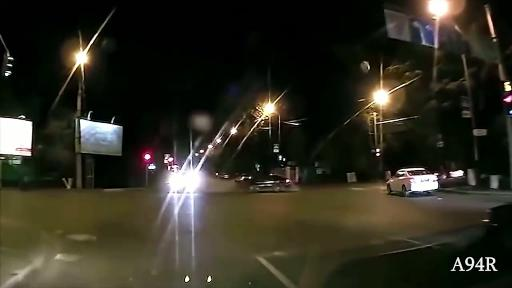Accident: (67, 75, 364, 223)
